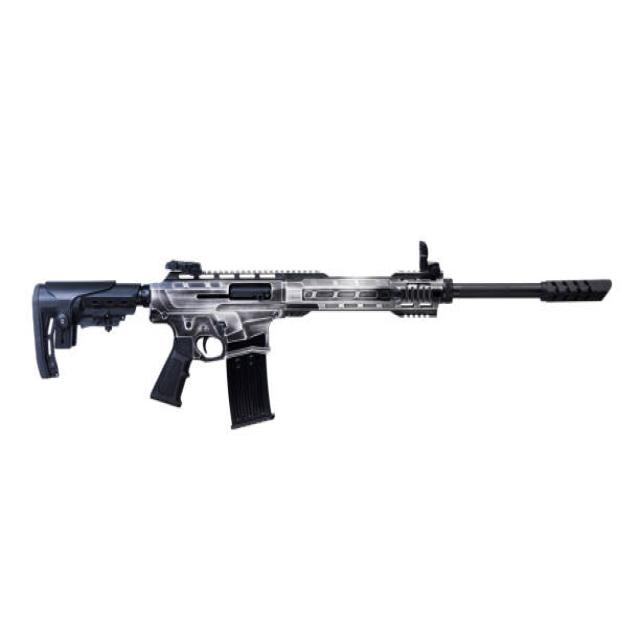rifle: (31, 233, 617, 437)
